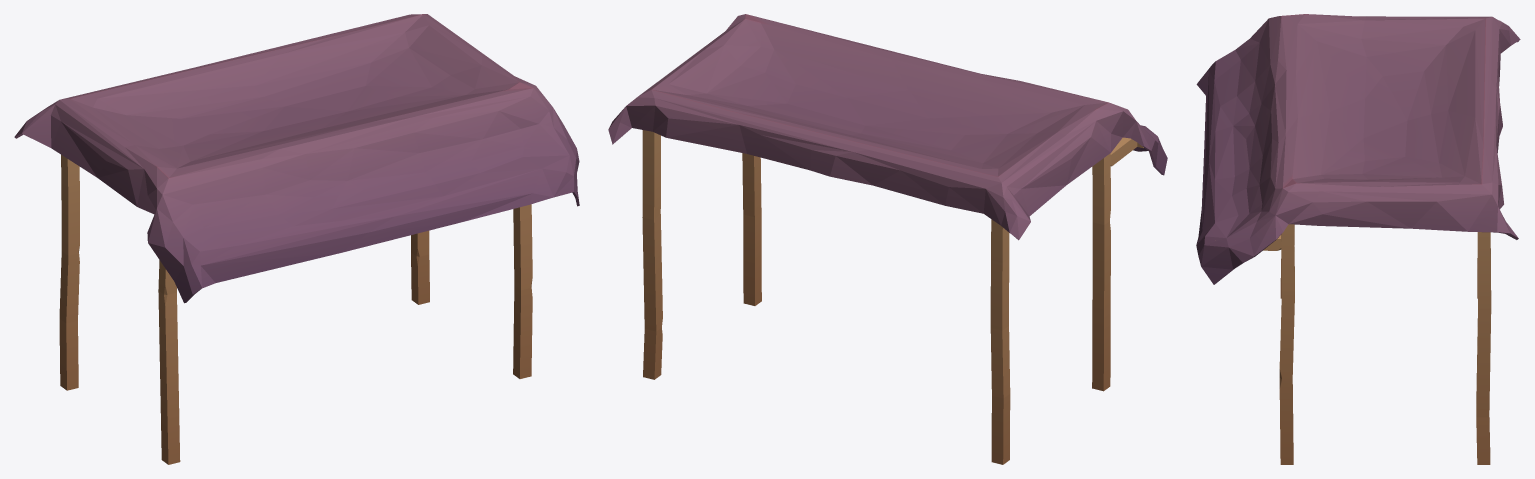
File: SM_MarketStall_01.fbx
3 renders of one model, left to right at view 1: azimuth 30°, elevation 25°; view 2: azimuth 150°, elevation 25°; view 3: azimuth 270°, elevation 25°, orthographic. The views are drawn at different scales.
Parts seen in each view (by area): view 1: SM_MarketStall_01; view 2: SM_MarketStall_01; view 3: SM_MarketStall_01.
Boxes of the visible parts, x1,y1,x2,y2 form: SM_MarketStall_01: (14, 14, 579, 464); SM_MarketStall_01: (608, 14, 1167, 464); SM_MarketStall_01: (1196, 14, 1520, 464).
Size of the model in its own units: 402 by 259 by 272.
